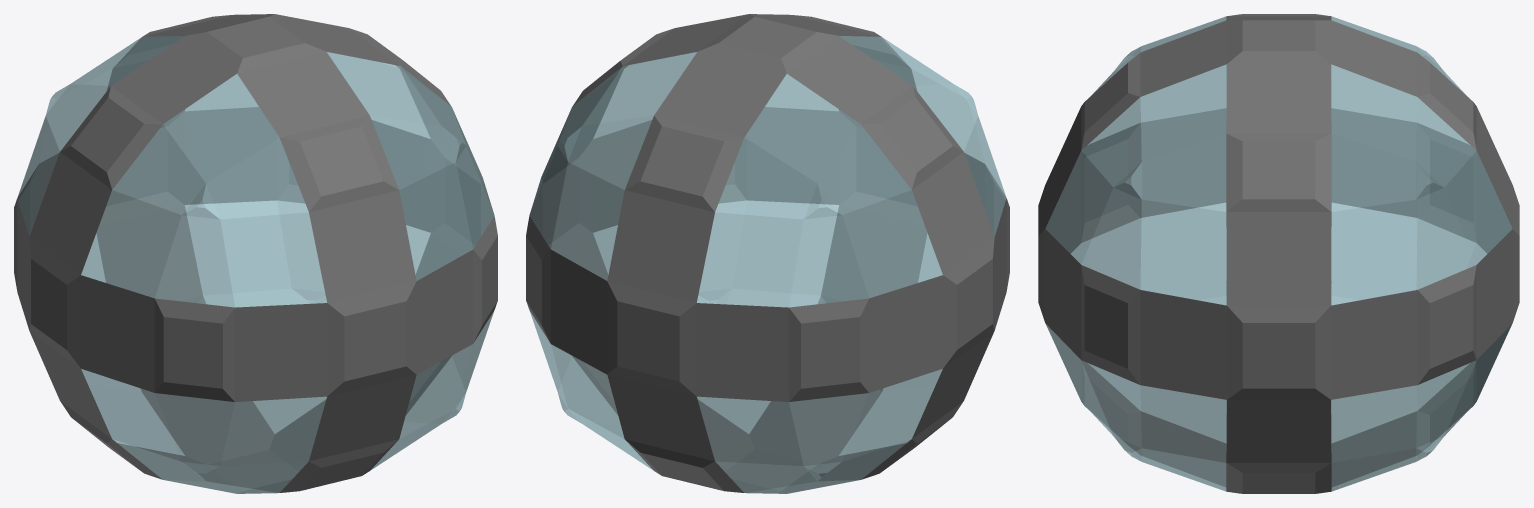
The model's file is ball.fbx.
3 renders of one model, left to right at view 1: azimuth 30°, elevation 25°; view 2: azimuth 150°, elevation 25°; view 3: azimuth 270°, elevation 25°, orthographic.
Visible parts, largest first — view 1: Cube; view 2: Cube; view 3: Cube.
Part boxes in pixels (x1=…): Cube: x1=14, y1=14, x2=497, y2=493; Cube: x1=526, y1=14, x2=1009, y2=493; Cube: x1=1038, y1=14, x2=1519, y2=493.
Bounding box in the file's own units: 200 × 200 × 200.
